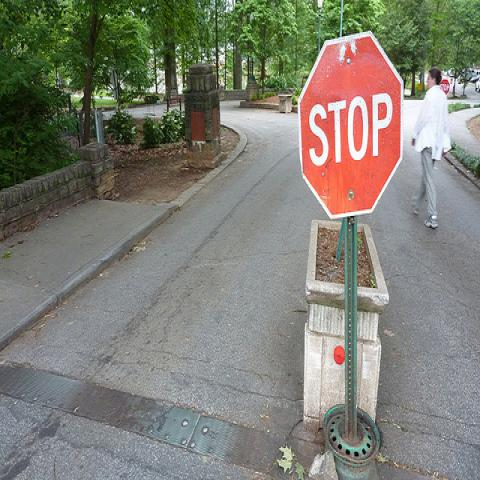car: (457, 71, 472, 84), (472, 73, 479, 83), (476, 76, 480, 93)
